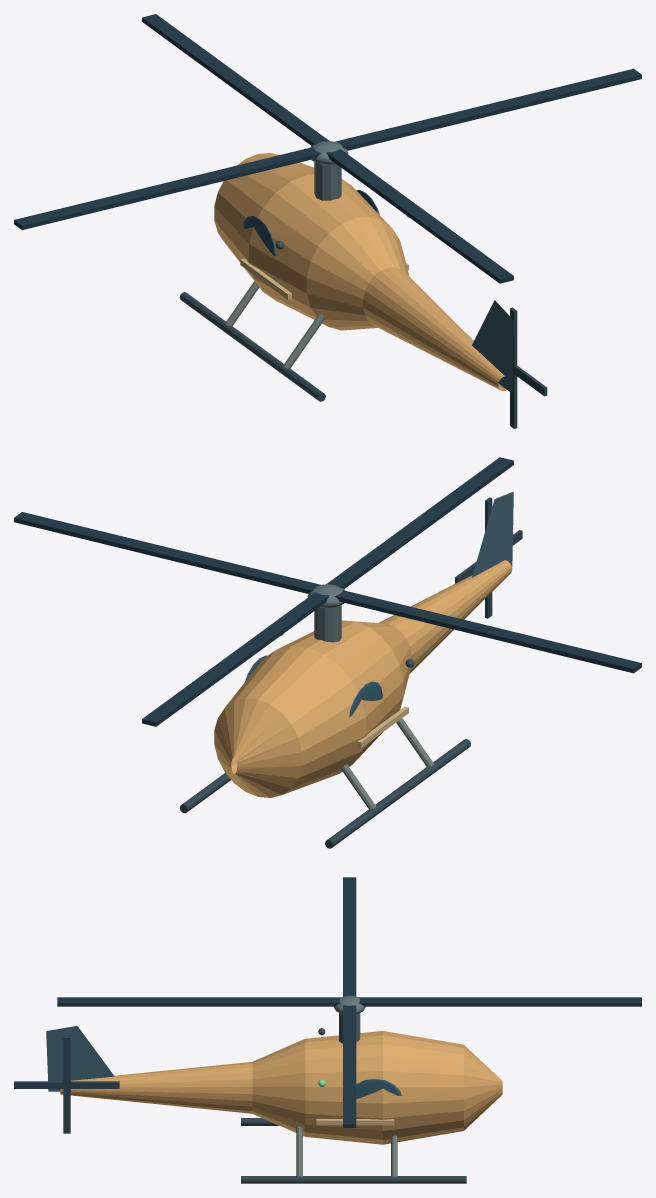
File: heli.glb
3 renders of one model, top to bottom at view 1: azimuth 30°, elevation 25°; view 2: azimuth 150°, elevation 25°; view 3: azimuth 270°, elevation 25°, orthographic. The views are drawn at different scales.
Visible parts, largest first — view 1: heli; view 2: heli; view 3: heli.
Boxes of the visible parts, x1=… form: heli: x1=14, y1=14, x2=641, y2=428; heli: x1=14, y1=457, x2=641, y2=848; heli: x1=14, y1=877, x2=641, y2=1183.
Size of the model in its own units: 10.5 by 3.09 by 11.28.
